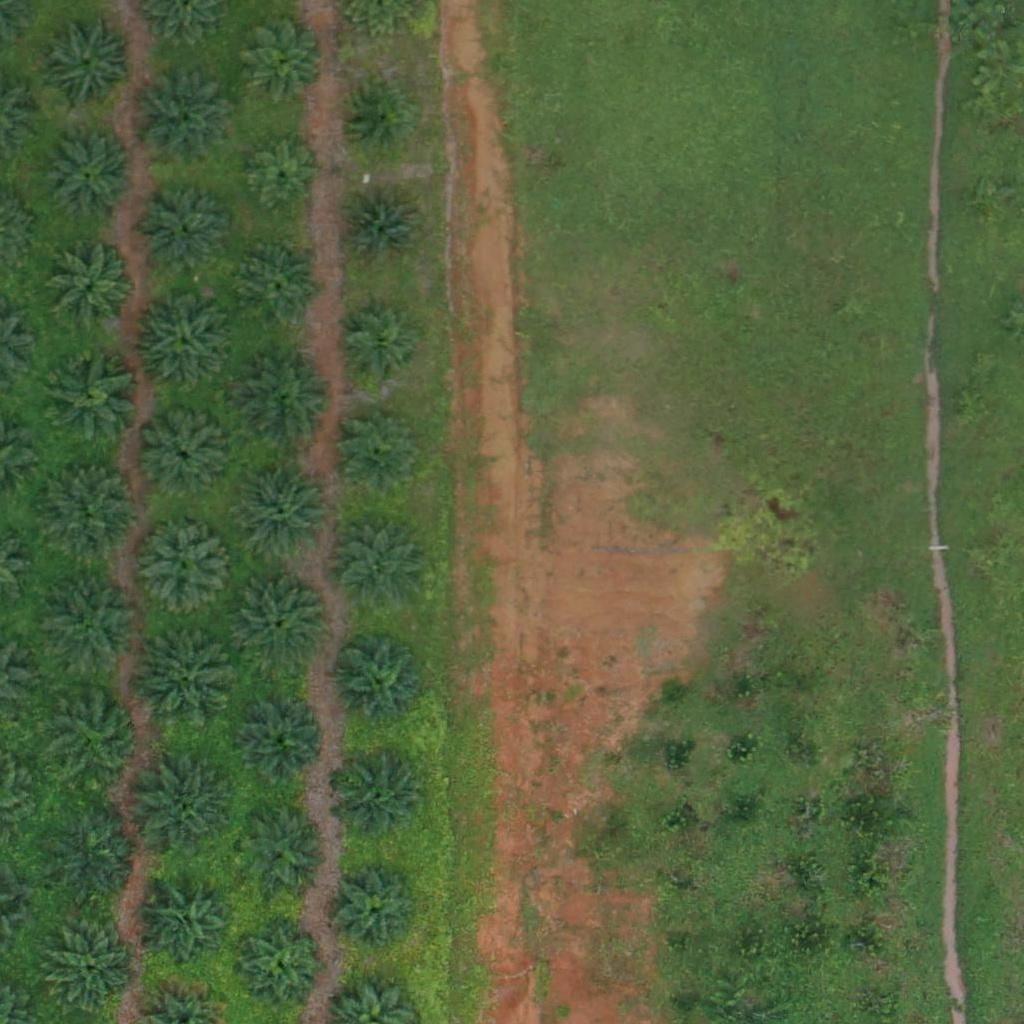Kelapa_Sawit: (130, 70, 230, 171), (35, 11, 135, 112), (39, 457, 139, 558), (44, 578, 144, 679), (135, 517, 235, 618), (134, 628, 234, 729), (135, 761, 235, 862), (237, 462, 337, 563), (230, 573, 330, 674), (329, 632, 429, 733), (233, 351, 333, 451), (133, 290, 233, 390), (39, 347, 139, 447), (47, 687, 147, 787), (46, 807, 146, 907), (141, 413, 229, 502), (335, 306, 423, 394), (238, 243, 326, 331), (139, 187, 227, 275), (235, 697, 323, 785), (337, 753, 425, 841), (333, 867, 421, 955), (48, 924, 136, 1012), (236, 15, 323, 103), (339, 187, 426, 275), (44, 135, 131, 223), (47, 246, 134, 334), (239, 809, 326, 897), (335, 407, 422, 495), (335, 522, 422, 610), (144, 881, 231, 969), (236, 920, 323, 1008), (247, 141, 322, 216), (344, 85, 407, 148)
